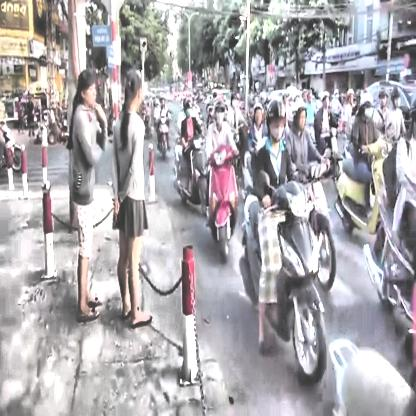not_wear: (77, 68, 97, 109), (126, 70, 144, 113), (378, 89, 388, 108)
wear: (266, 96, 287, 142), (292, 100, 308, 130), (360, 93, 374, 118), (214, 100, 226, 123), (391, 86, 402, 108), (183, 100, 194, 118)
